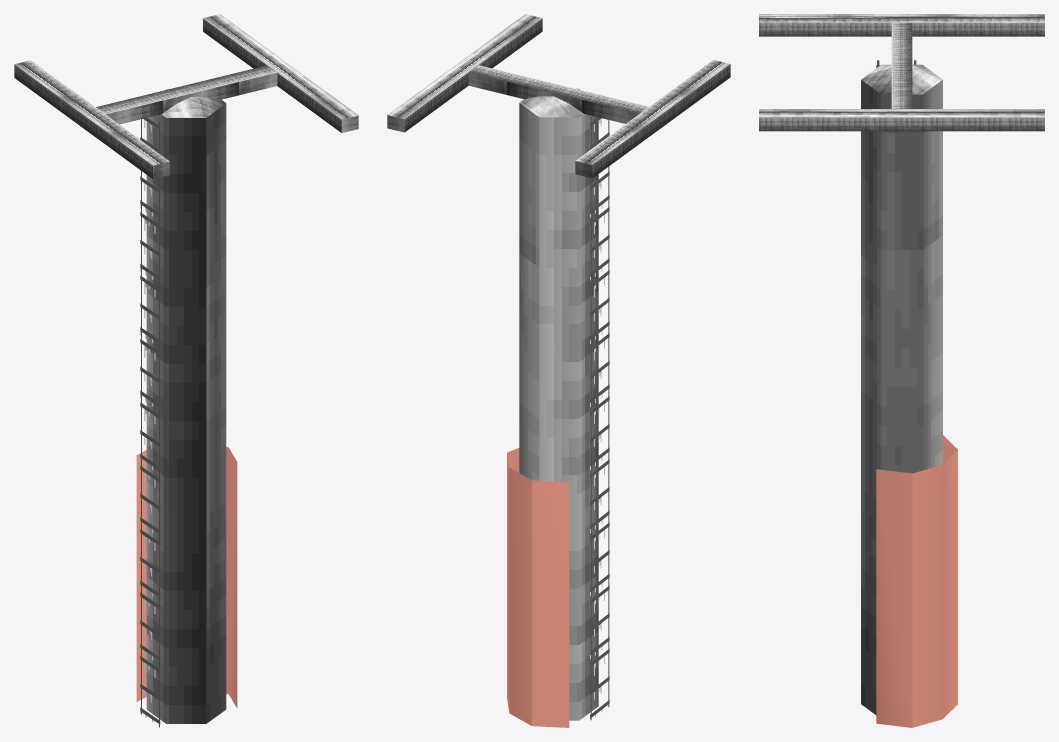
The model's file is uvmd-0202.glb.
3 views of the same model, side by side, from view 1: azimuth 30°, elevation 25°; view 2: azimuth 150°, elevation 25°; view 3: azimuth 270°, elevation 25° (orthographic). The views are drawn at different scales.
Visible parts, largest first — view 1: uvmd-0202; view 2: uvmd-0202; view 3: uvmd-0202.
Part boxes in pixels (left/top/right/bottom): uvmd-0202: left=14, top=14, right=358, bottom=727; uvmd-0202: left=387, top=14, right=730, bottom=727; uvmd-0202: left=759, top=14, right=1044, bottom=727.
Size of the model in its own units: 48 by 138 by 56.
3 materials, 3 textured.
